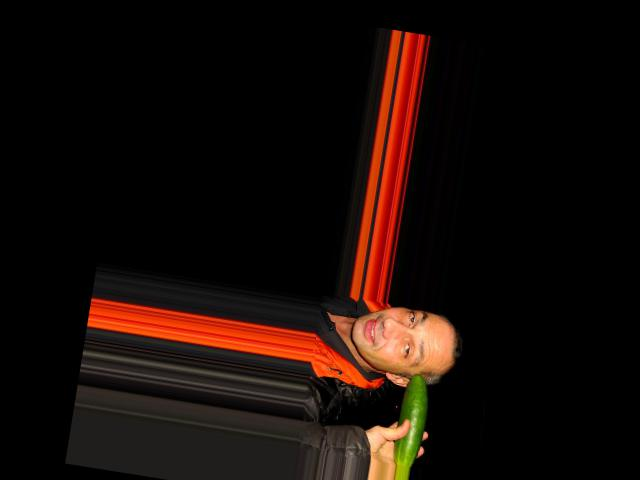cucumber: (391, 371, 432, 468)
